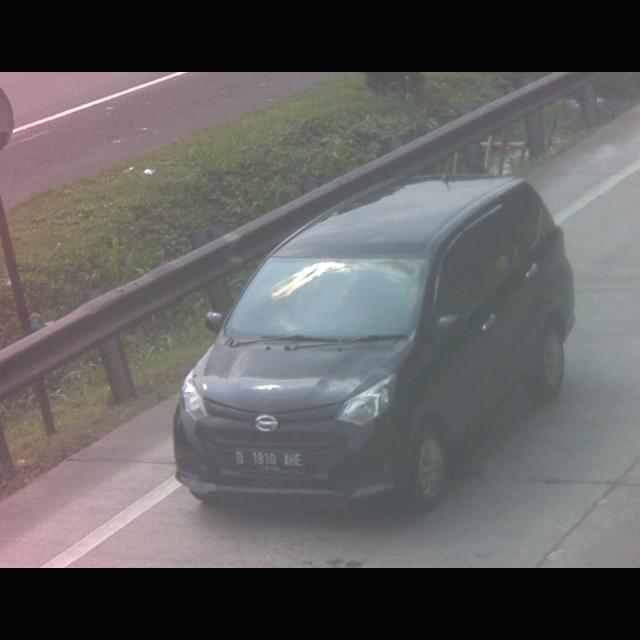plate: (230, 449, 304, 474)
